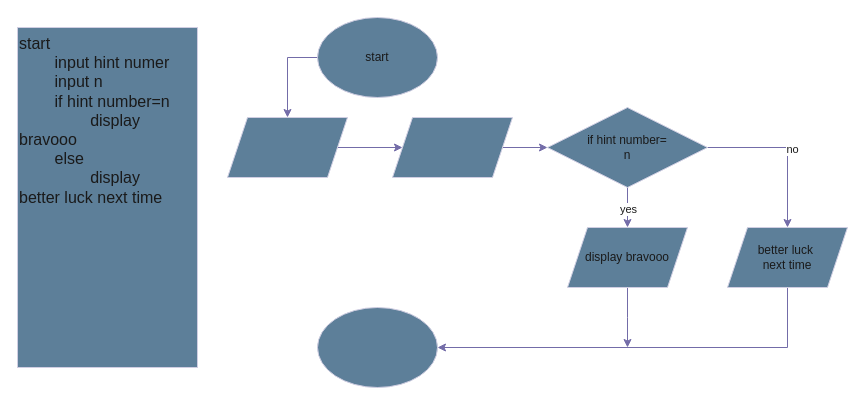
The diagram is 865 pixels wide and 405 high, and some of its shapes have lost their labels. The shapes that lost their labels are listed below. From the top down, each one's centre as x and y in pixels, then its label:
At point 287,147: "input hint nuber".
At point 452,147: "input n".
